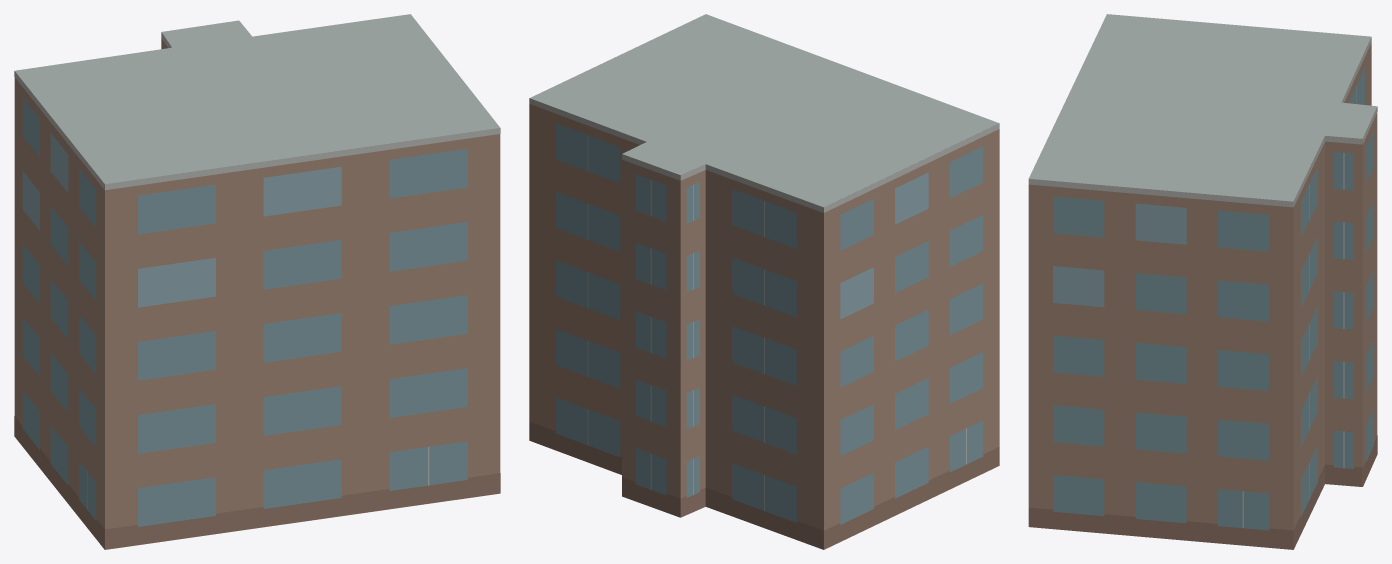
File: survey-upis-32893388.glb
The picture shows the model from 3 angles, left to right: view 1: azimuth 30°, elevation 25°; view 2: azimuth 150°, elevation 25°; view 3: azimuth 270°, elevation 25°; orthographic projection. The views are drawn at different scales.
Visible parts, largest first — view 1: survey-upis-32893388.tmp; view 2: survey-upis-32893388.tmp; view 3: survey-upis-32893388.tmp.
Boxes of the visible parts, x1,y1,x2,y2 form: survey-upis-32893388.tmp: (14,14,500,549); survey-upis-32893388.tmp: (529,14,999,549); survey-upis-32893388.tmp: (1028,14,1377,549).
Size of the model in its own units: 17.06 by 14.75 by 13.4.
